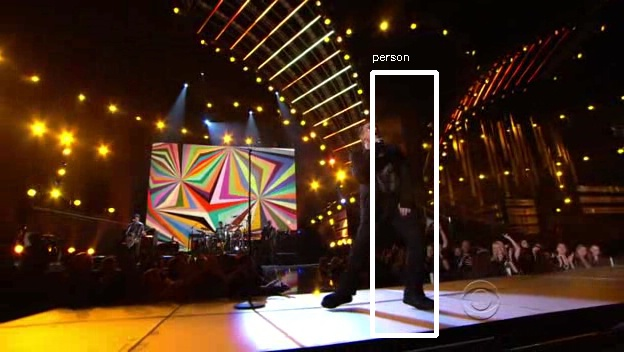person: (349, 121, 416, 234), (346, 121, 413, 234), (352, 121, 419, 234), (349, 118, 416, 231), (349, 124, 416, 237)
target_negative: (199, 5, 265, 187), (343, 101, 436, 140), (257, 333, 544, 345), (330, 333, 502, 348), (600, 30, 601, 293), (377, 333, 424, 338)
